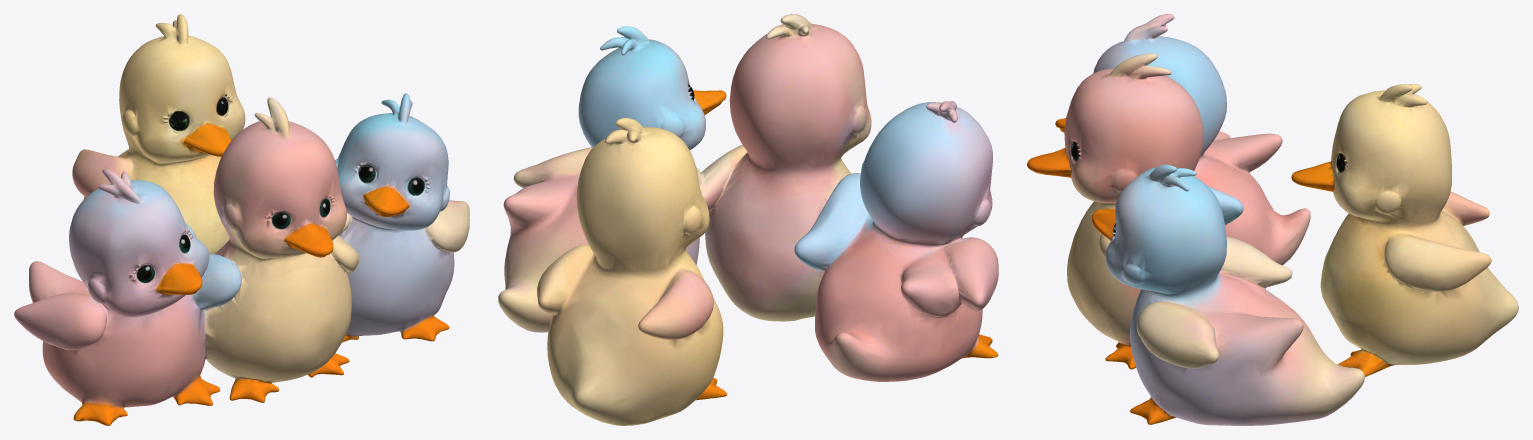
Rendered from fox.glb.
3 views of the same model, side by side, from view 1: azimuth 30°, elevation 25°; view 2: azimuth 150°, elevation 25°; view 3: azimuth 270°, elevation 25° (orthographic). The views are drawn at different scales.
Size of the model in its own units: 1.9 by 1.11 by 1.74.
Materials: 1 (1 with a texture image).
